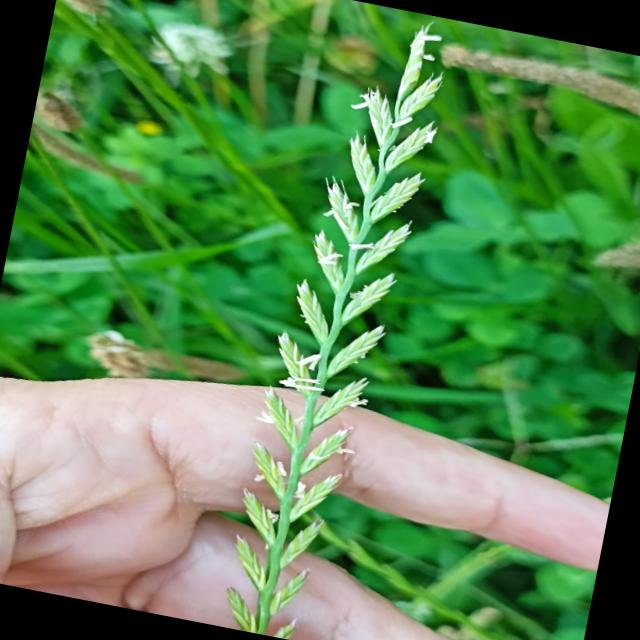Lolium: (207, 2, 462, 640)
